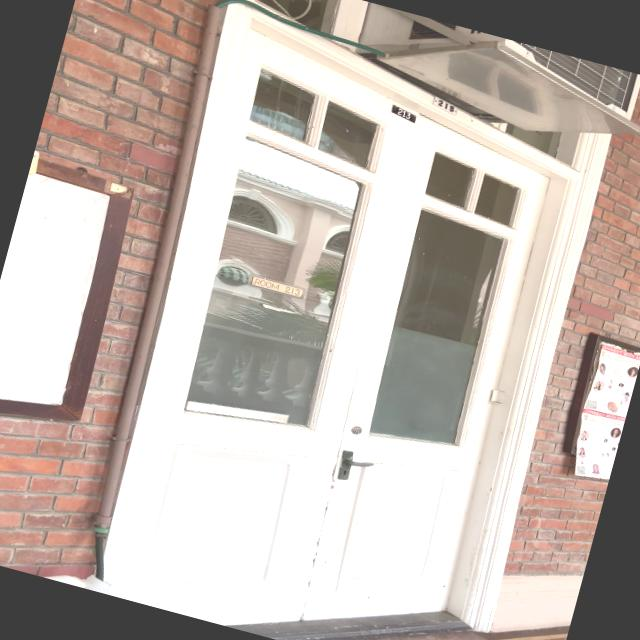room213: (386, 102, 420, 125)
room213Window: (245, 270, 312, 303)
